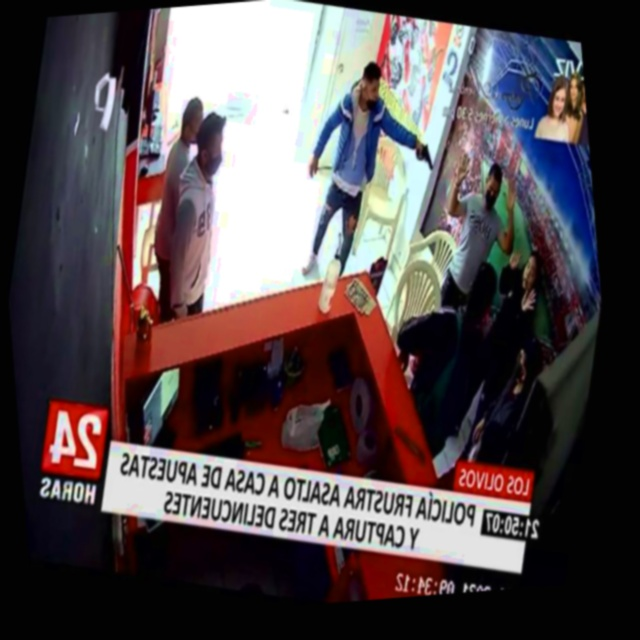gun: (407, 126, 444, 182)
